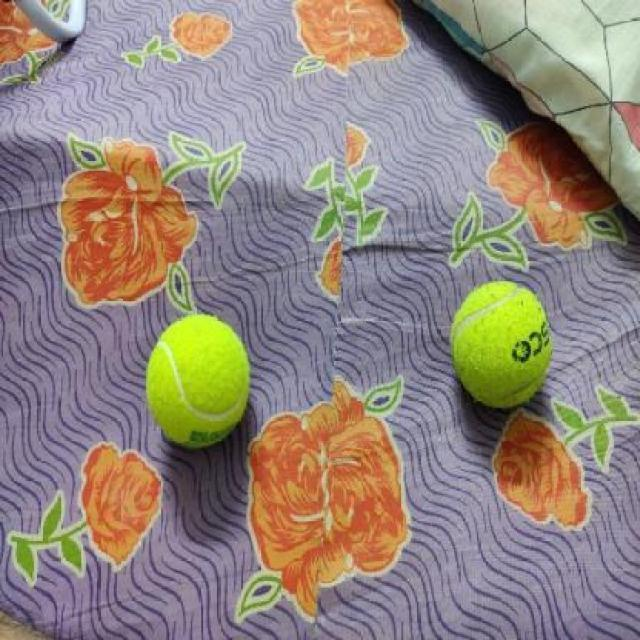-: (139, 295, 264, 462), (449, 263, 555, 428)
